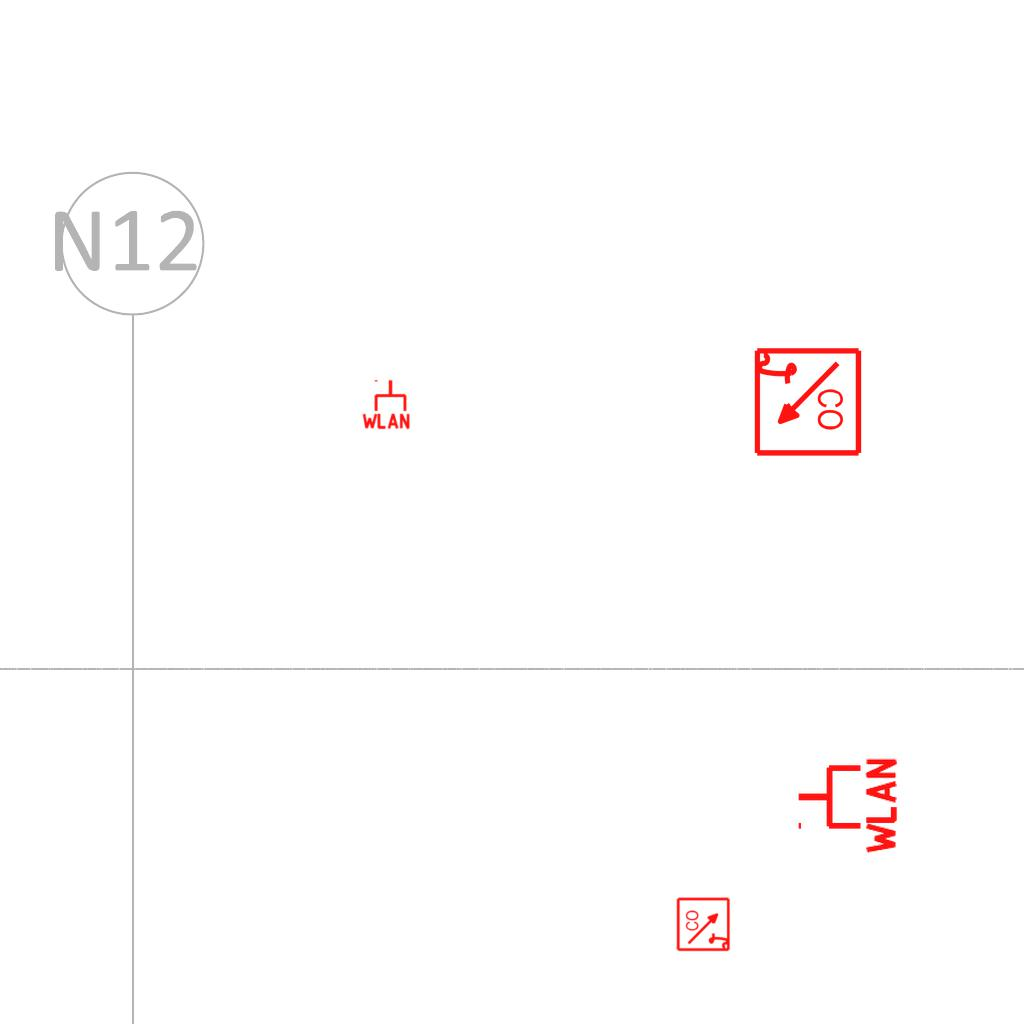ROA_Rauchmelder_optisch_mit_Signalgeber_(Sockelsirene): (750, 346, 863, 459), (676, 896, 732, 952)
WLAN: (794, 754, 899, 858), (360, 378, 412, 430)
